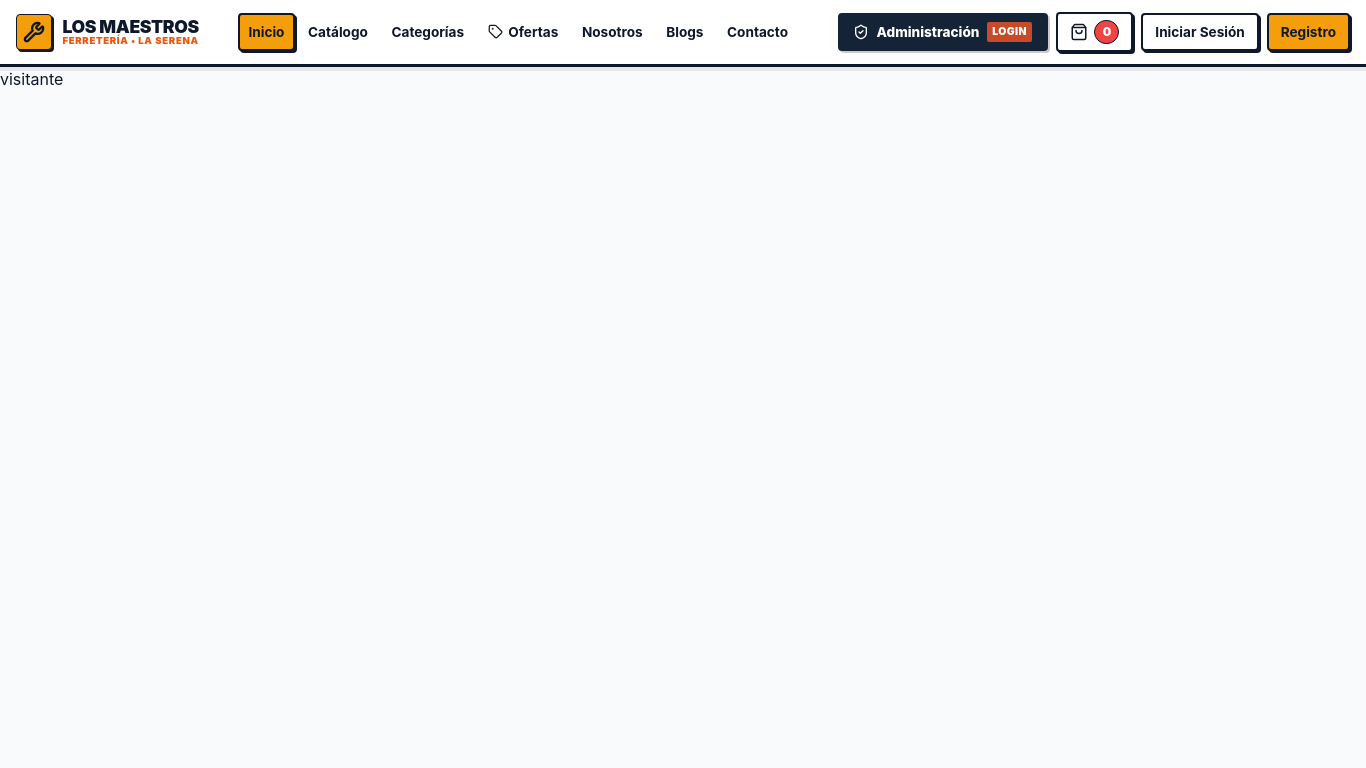
Test: Acceso administrativo y navegación por perfil › mantiene el acceso de vendedor desde las cuentas de demostración
This screenshot has width=1366, height=768.
Click the button with aria-label "Acceder a Administración" at [943, 32], box x1=838 y1=13 x2=1048 y2=51
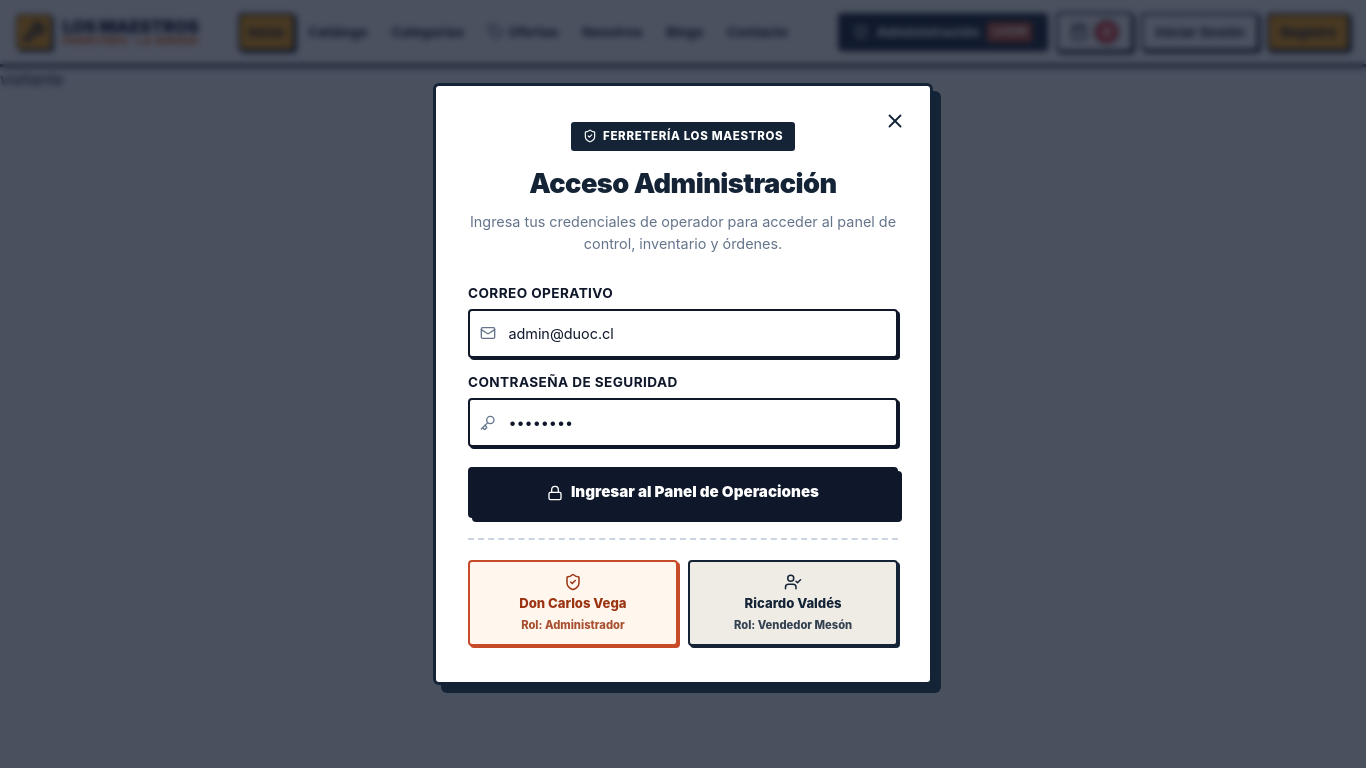
Click the button "Ricardo Valdés Rol: Vendedor Mesón" at [793, 603], box x1=688 y1=560 x2=898 y2=646
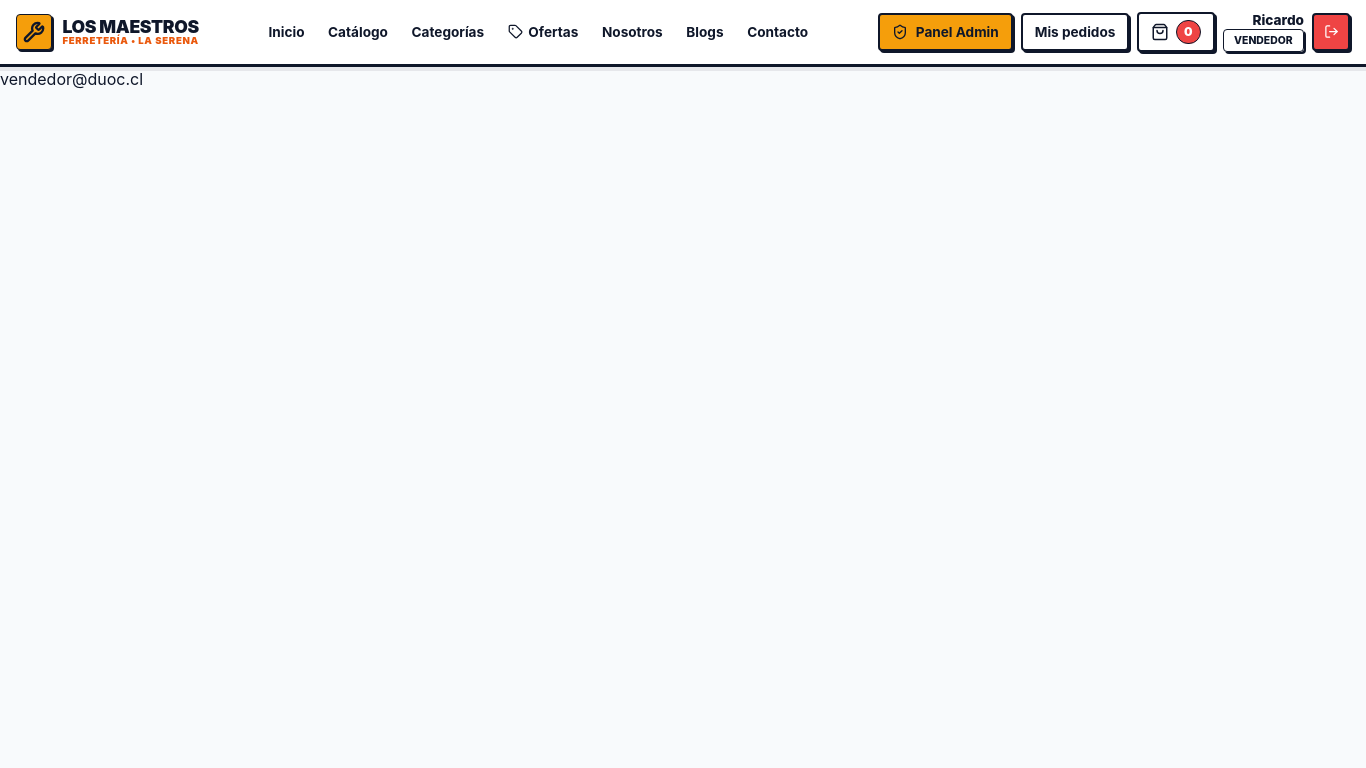
Now the dialog is gone
Now the text with test id "active-session" reads "vendedor@duoc.cl", box x1=0 y1=69 x2=143 y2=89
